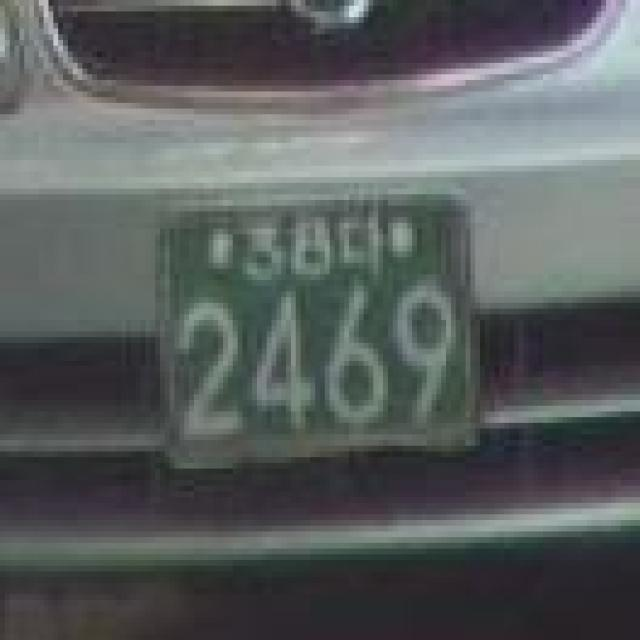illegal_plate: (152, 178, 488, 477)
